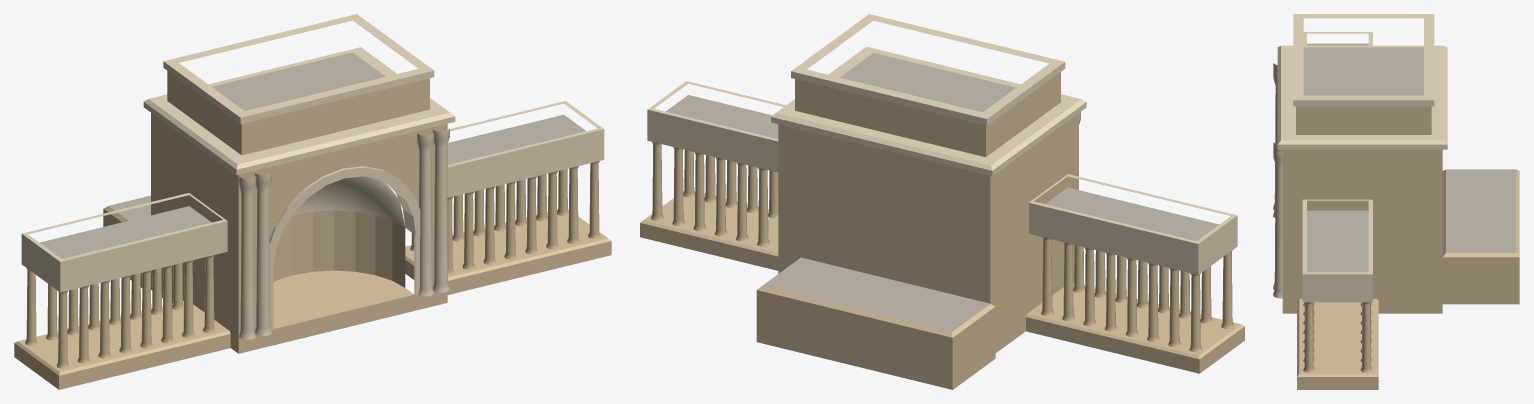
File: sf-spreckels-temple-of-music.glb
3 views of the same model, side by side, from view 1: azimuth 30°, elevation 25°; view 2: azimuth 150°, elevation 25°; view 3: azimuth 270°, elevation 25° (orthographic). The views are drawn at different scales.
Visible parts, largest first — view 1: Spreckels Temple of Music; view 2: Spreckels Temple of Music; view 3: Spreckels Temple of Music.
Part boxes in pixels (left/top/right/bottom): Spreckels Temple of Music: left=14, top=14, right=611, bottom=389; Spreckels Temple of Music: left=640, top=14, right=1244, bottom=389; Spreckels Temple of Music: left=1273, top=14, right=1519, bottom=389.
Bounding box in the file's own units: 52.8 × 21 × 22.36.
